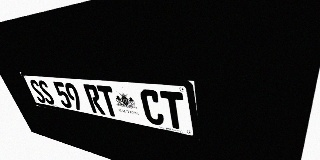5: (52, 81, 73, 109)
9: (63, 82, 85, 111)
C: (139, 89, 165, 126)
R: (83, 84, 106, 115)
S: (36, 80, 56, 105), (28, 79, 47, 104)
T: (160, 91, 187, 131), (96, 85, 120, 118)
